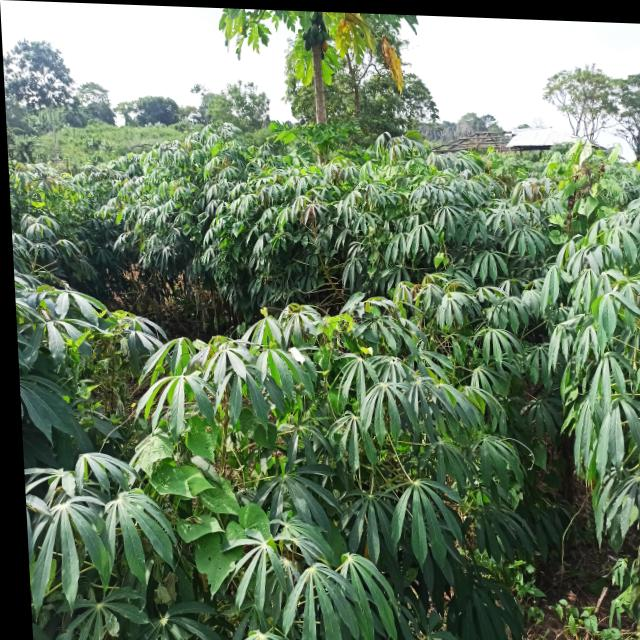Maleza: (151, 458, 257, 589)
Mosca: (486, 585, 509, 601), (421, 535, 437, 557), (452, 606, 468, 618), (480, 595, 492, 609)
